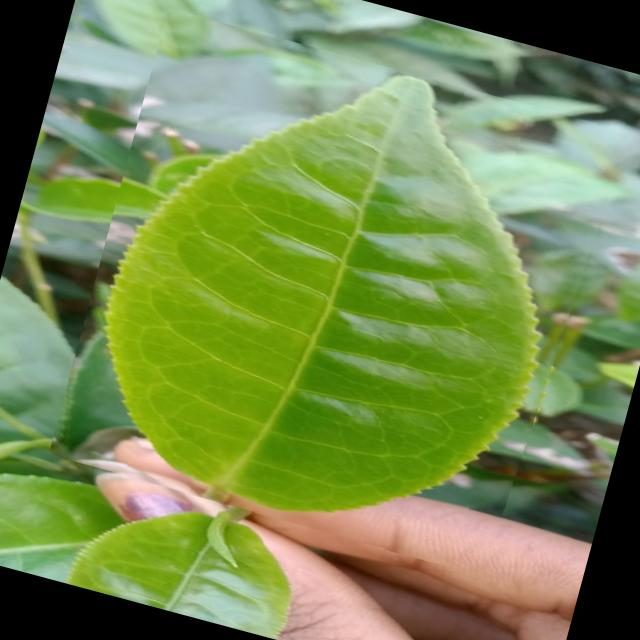Category B 2-4 days: (46, 8, 629, 584)
